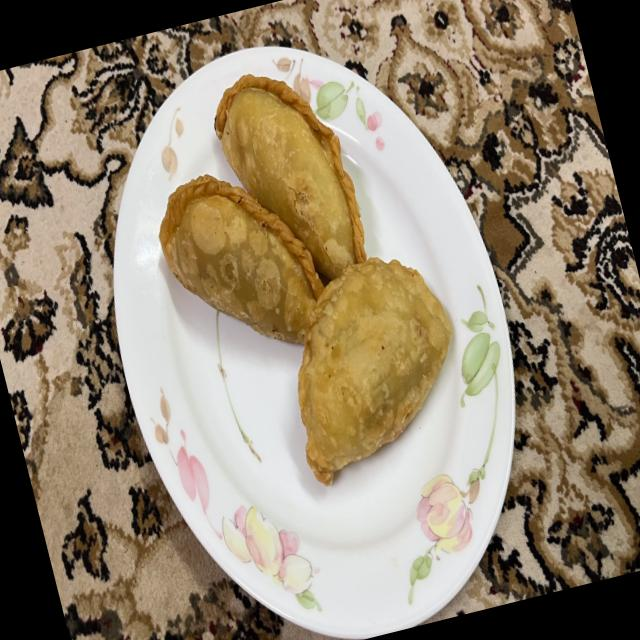karipap: (297, 256, 452, 485), (214, 74, 366, 284), (159, 174, 323, 344)
